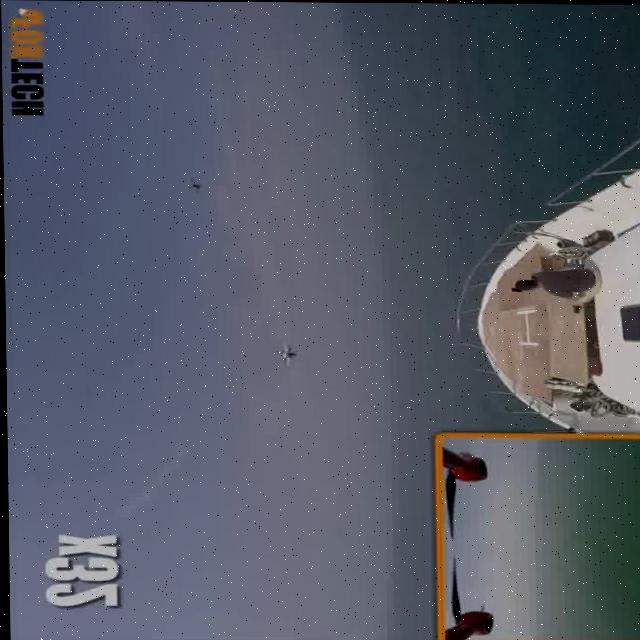drone: (259, 336, 299, 369), (177, 174, 208, 198)
